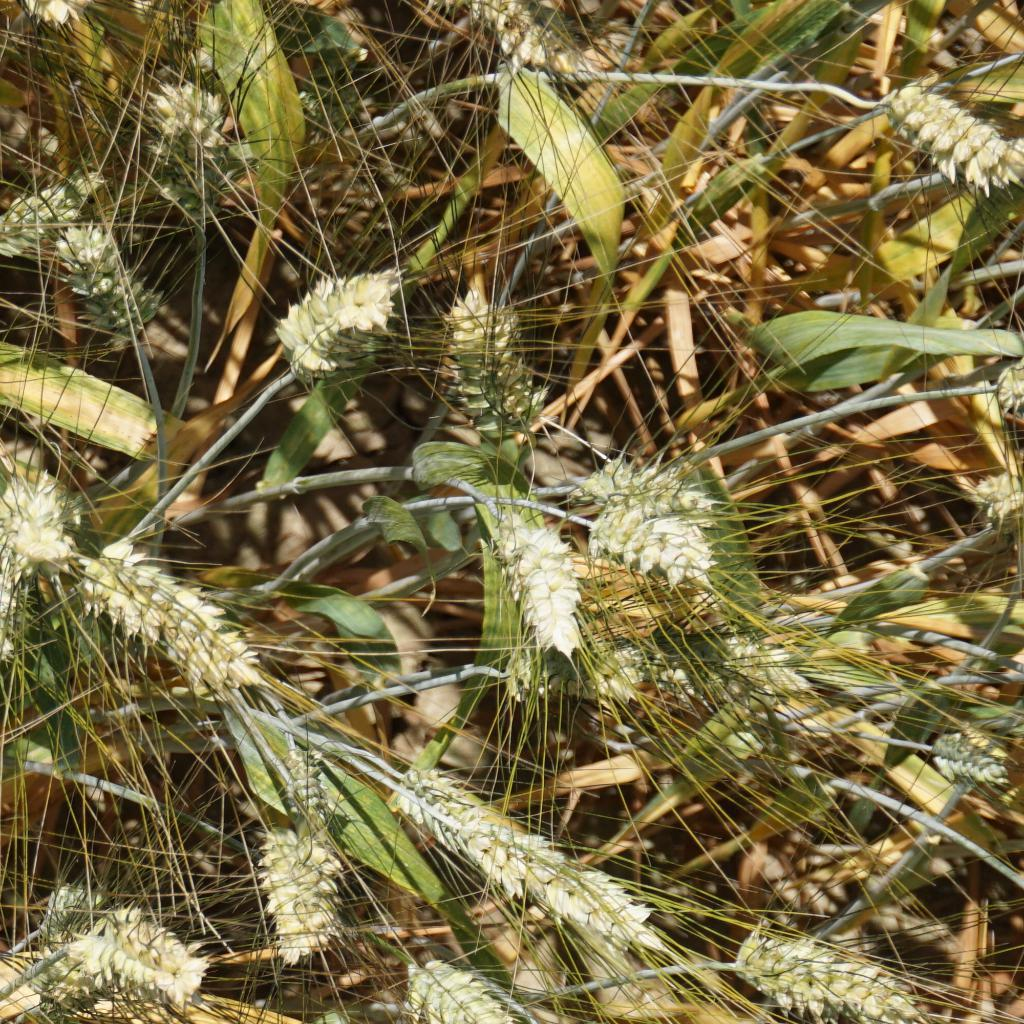0-0: (451, 813, 694, 962), (68, 543, 266, 690), (629, 599, 815, 719), (726, 918, 936, 1024), (442, 280, 550, 460), (49, 214, 171, 369), (866, 77, 1016, 199), (141, 67, 248, 235), (491, 478, 585, 664), (281, 257, 407, 387), (395, 760, 521, 875), (387, 942, 538, 1024), (495, 643, 652, 715), (261, 837, 344, 963), (0, 166, 105, 264), (0, 470, 84, 585), (472, 0, 581, 88), (593, 453, 715, 531), (19, 943, 128, 1024), (117, 915, 205, 1011), (608, 495, 693, 589), (275, 738, 354, 830), (924, 719, 1016, 796), (284, 59, 373, 136), (32, 873, 113, 939), (0, 559, 38, 672)
